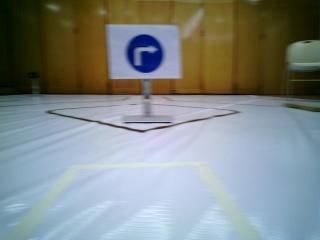right: (106, 25, 182, 80)
